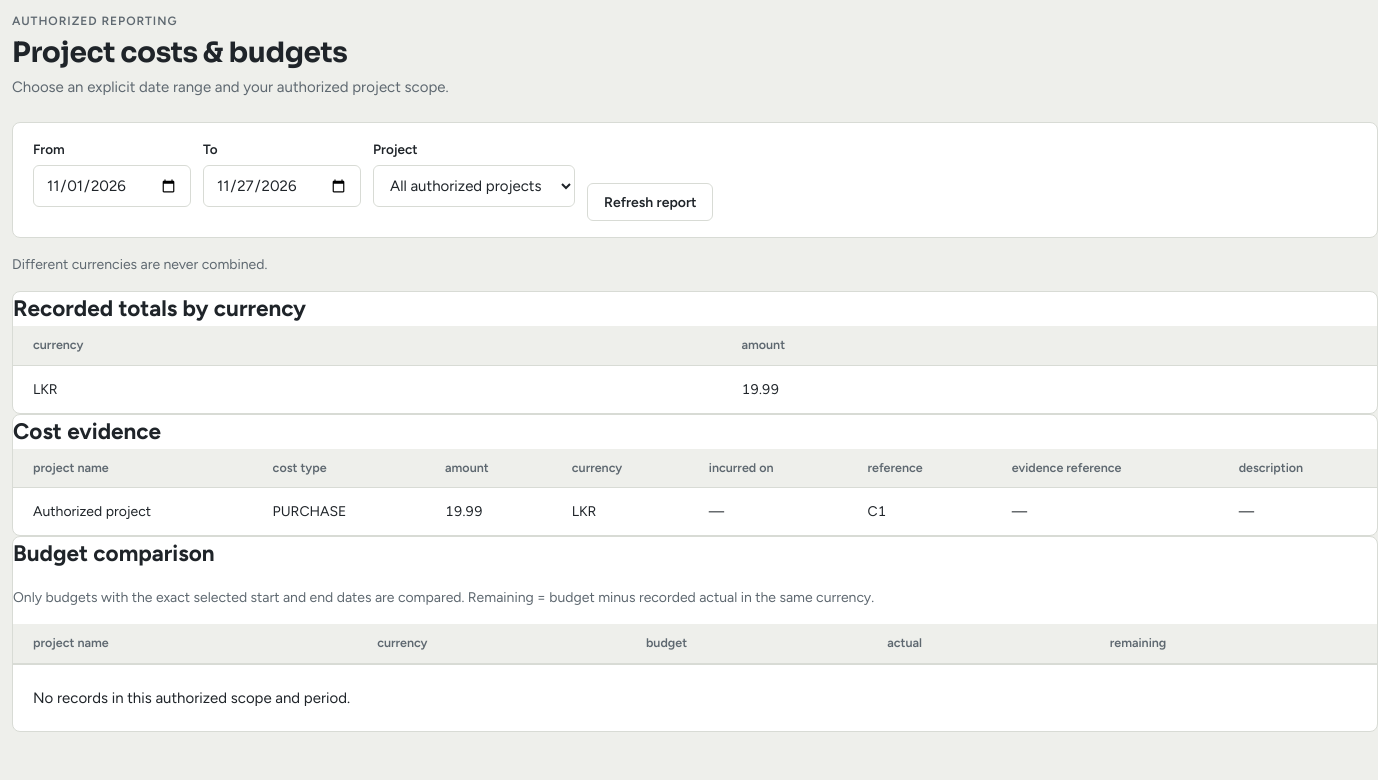
scoped role reporting workspace › rejects reversed date ranges without issuing another request or leaving a spinner
Check: the text "C1" is shown, box [848, 488, 992, 535]
Type "2000-01-01" into the date field named "Report to" at [282, 186], box [203, 165, 361, 207]
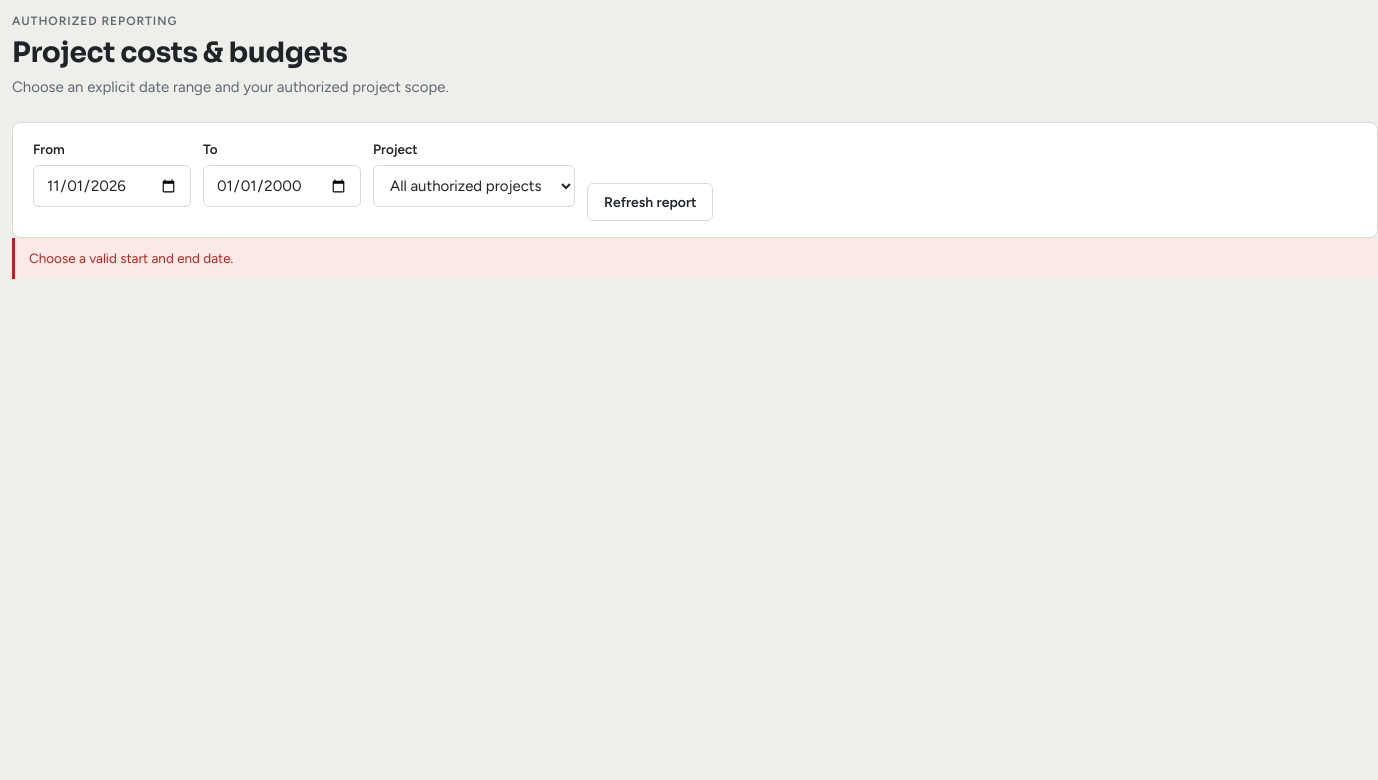
Check: the message reads "Choose a valid start and end date.", box [29, 250, 233, 266]
